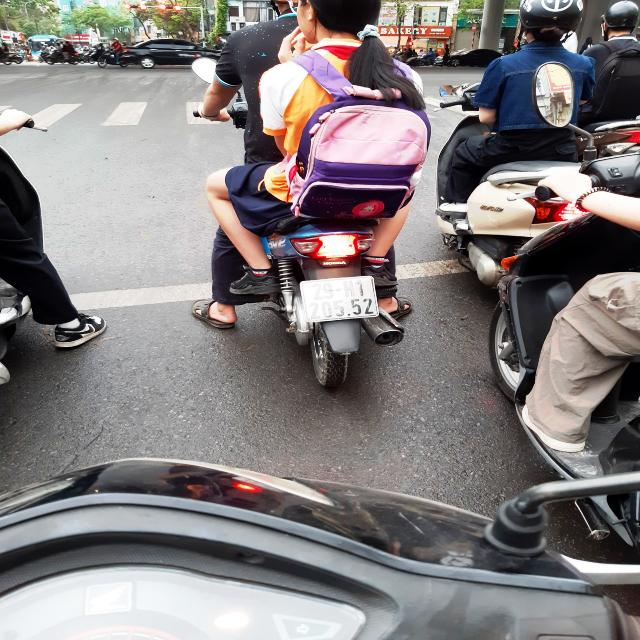license_plate: (296, 273, 388, 328)
